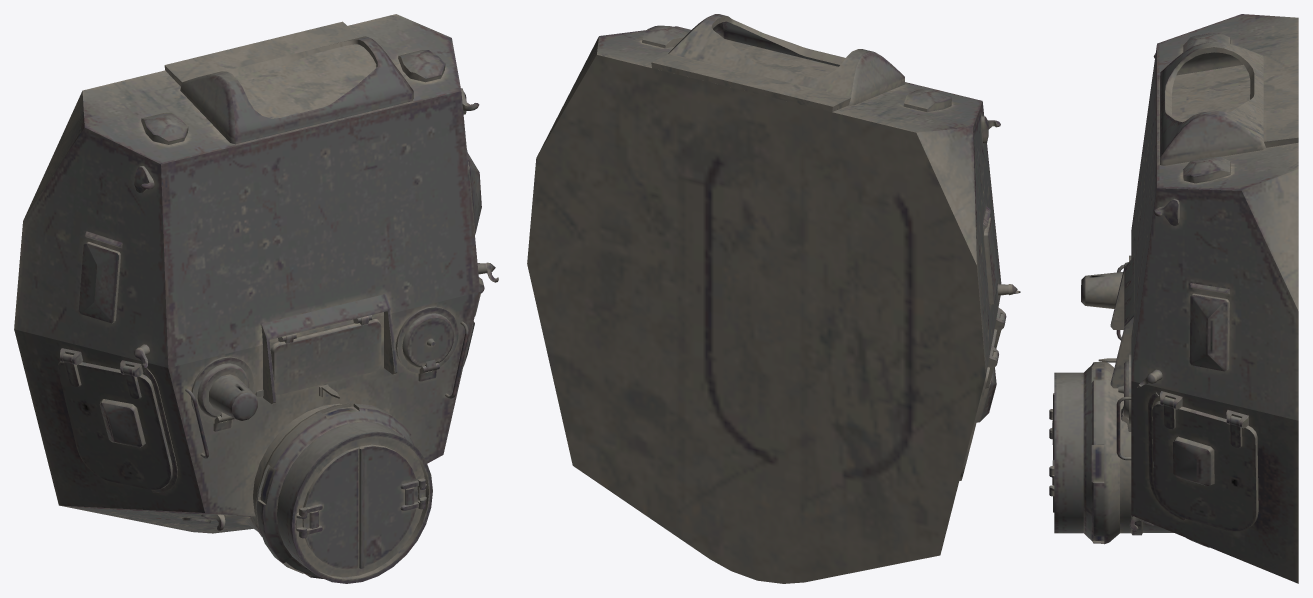
File: Turret_02.glb
3 views of the same model, side by side, from view 1: azimuth 30°, elevation 25°; view 2: azimuth 150°, elevation 25°; view 3: azimuth 270°, elevation 25° (orthographic). The views are drawn at different scales.
Visible parts, largest first — view 1: set_0_group_0; view 2: set_0_group_0; view 3: set_0_group_0.
Part boxes in pixels (<box>): set_0_group_0: <box>14,14,498,583</box>; set_0_group_0: <box>527,14,1020,583</box>; set_0_group_0: <box>1049,14,1298,583</box>.
Bounding box in the file's own units: 1.98 × 2.1 × 0.9626.
Materials: 1 (1 with a texture image).
